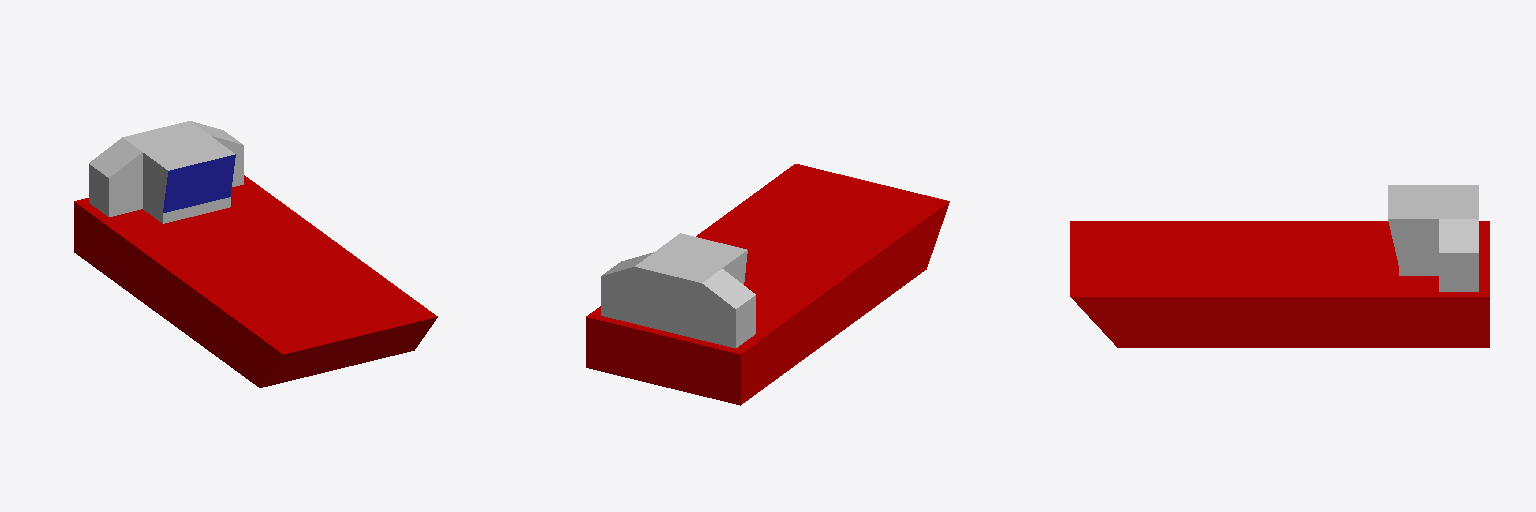
Rendered from carrier.obj.
3 renders of one model, left to right at view 1: azimuth 30°, elevation 25°; view 2: azimuth 150°, elevation 25°; view 3: azimuth 270°, elevation 25°, orthographic.
Visible parts, largest first — view 1: Cube_Cube.006; view 2: Cube_Cube.006; view 3: Cube_Cube.006.
Part boxes in pixels (x1,y1,x2,y2): Cube_Cube.006: (74,121,437,387); Cube_Cube.006: (586,164,949,405); Cube_Cube.006: (1070,185,1489,347).
Bounding box in the file's own units: 6.36 × 4.24 × 14.93.